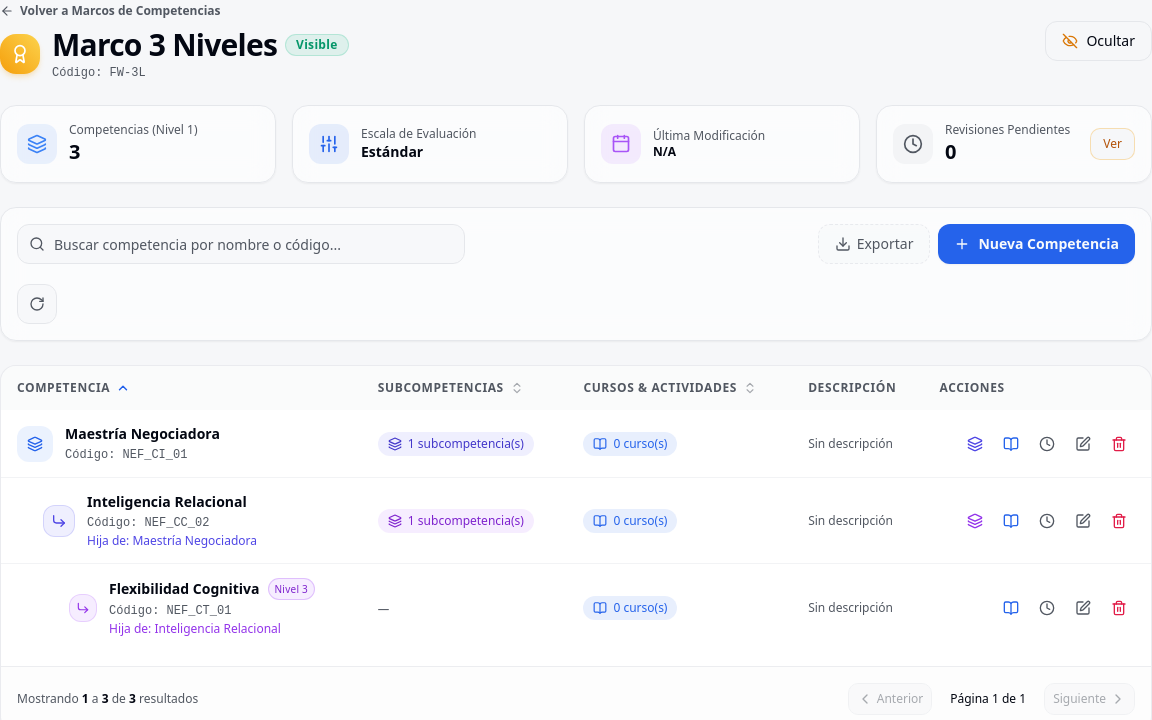
it: CompetencyFrameworkDetailView & CompetencyCoursesModal › supports 3-level hierarchy: displays subcompetency count on level 2 and allows creating level 3
Expected: the text "Inteligencia Relacional" is shown, [87,492,247,512]
Expected: the text "Flexibilidad Cognitiva" is shown, [109,579,260,599]
# Clicking create on Level 2 opens modal for Level 3
Click the button titled "Crear subcompetencia de tercer nivel para esta subcompetencia".
click(975, 520)  # box [959,504,991,536]
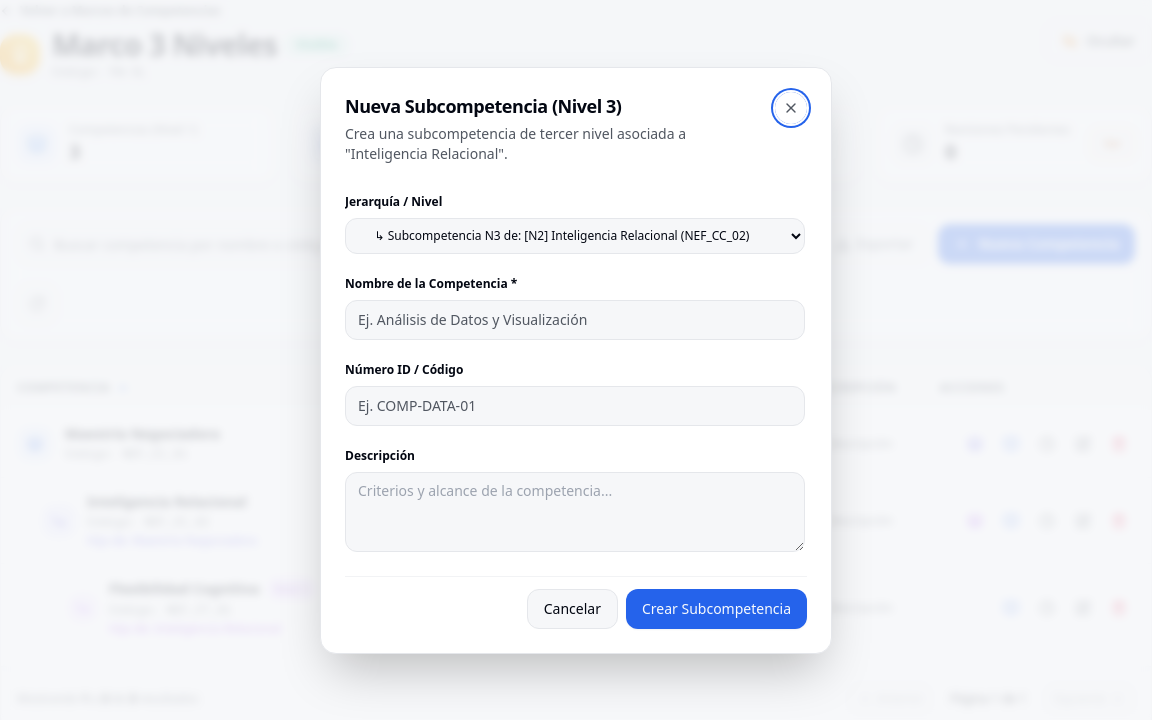
Expected: the heading "Nueva Subcompetencia (Nivel 3)" is shown, [345,94,622,118]
